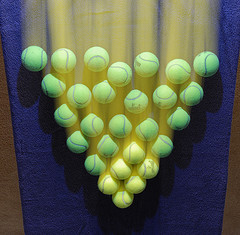tennis ball: (50, 46, 78, 74), (83, 45, 111, 73), (19, 45, 48, 72), (51, 102, 79, 129), (106, 60, 133, 87), (134, 51, 161, 78), (178, 80, 205, 107), (150, 131, 175, 160), (165, 58, 192, 84), (123, 88, 150, 114), (152, 84, 178, 111), (78, 110, 104, 137), (64, 128, 91, 154), (165, 106, 193, 131), (193, 50, 219, 76), (41, 73, 67, 98), (67, 82, 92, 108), (134, 116, 159, 141), (92, 79, 116, 105), (108, 114, 134, 138), (122, 139, 146, 165), (108, 155, 132, 180), (123, 169, 147, 194), (84, 152, 109, 175), (97, 134, 120, 158), (96, 172, 120, 194), (136, 158, 161, 179), (112, 186, 134, 209)
